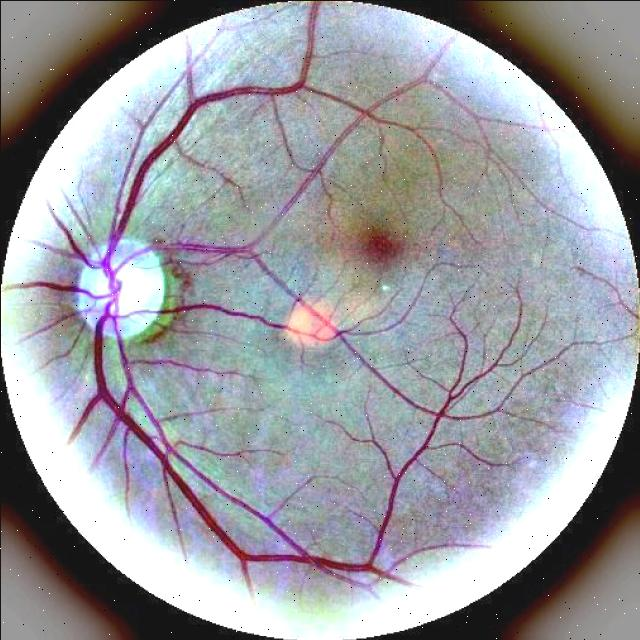Macula: (318, 203, 421, 295)
Nerves: (22, 9, 479, 592)
Optic Disk: (43, 215, 201, 351)
